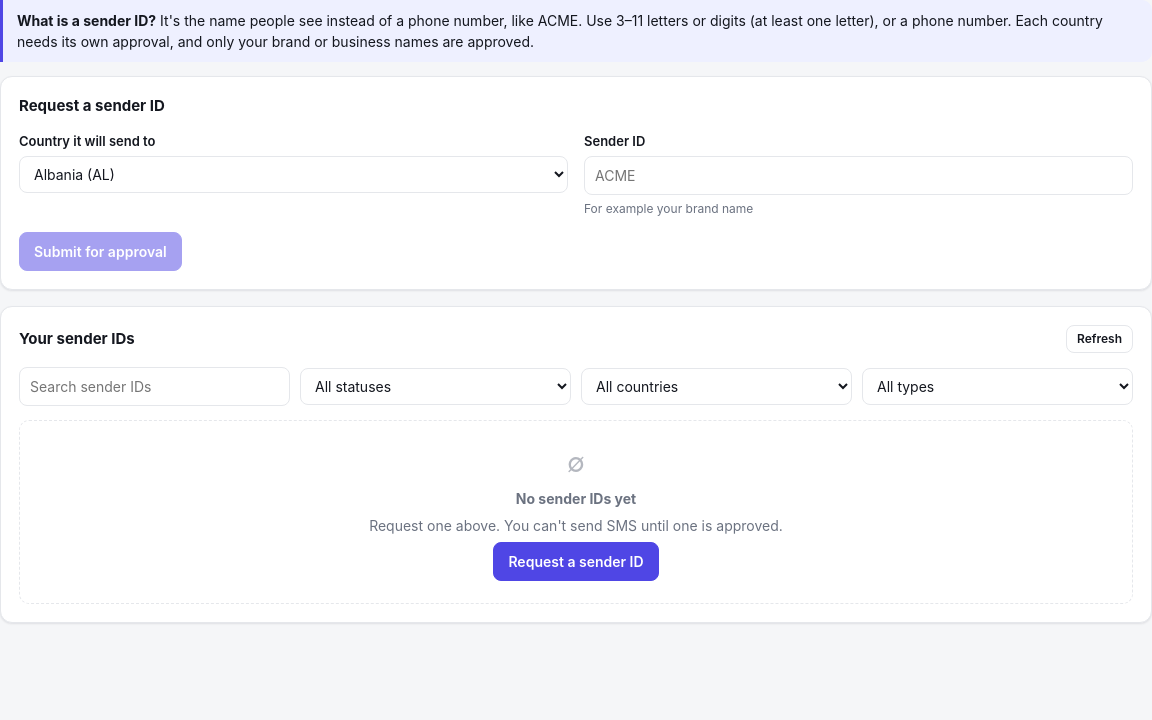
Test case: request form and field errors › 18 server field errors appear next to the field, focus it, and clear on edit
Type "ABCDEF" into the field labelled "Sender ID For example your brand name".
click(858, 176); type("ABCDEF")  # box [584,156,1133,195]
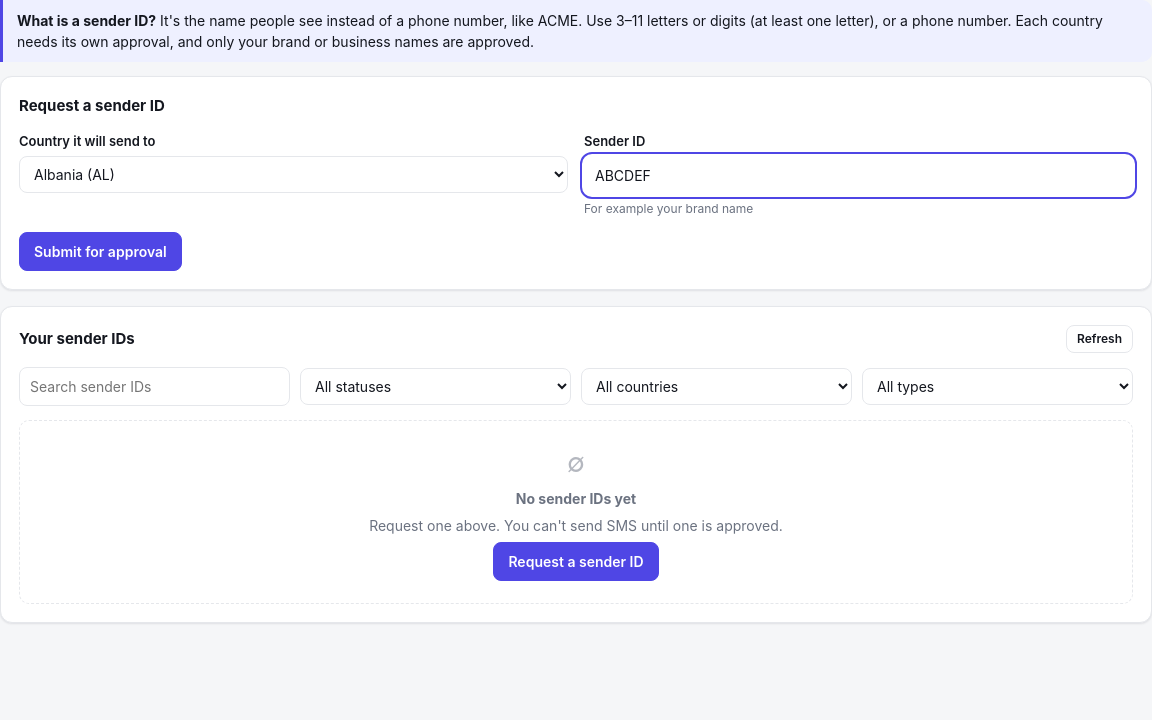
Click the button "Submit for approval".
click(100, 252)  # box [19,232,182,271]
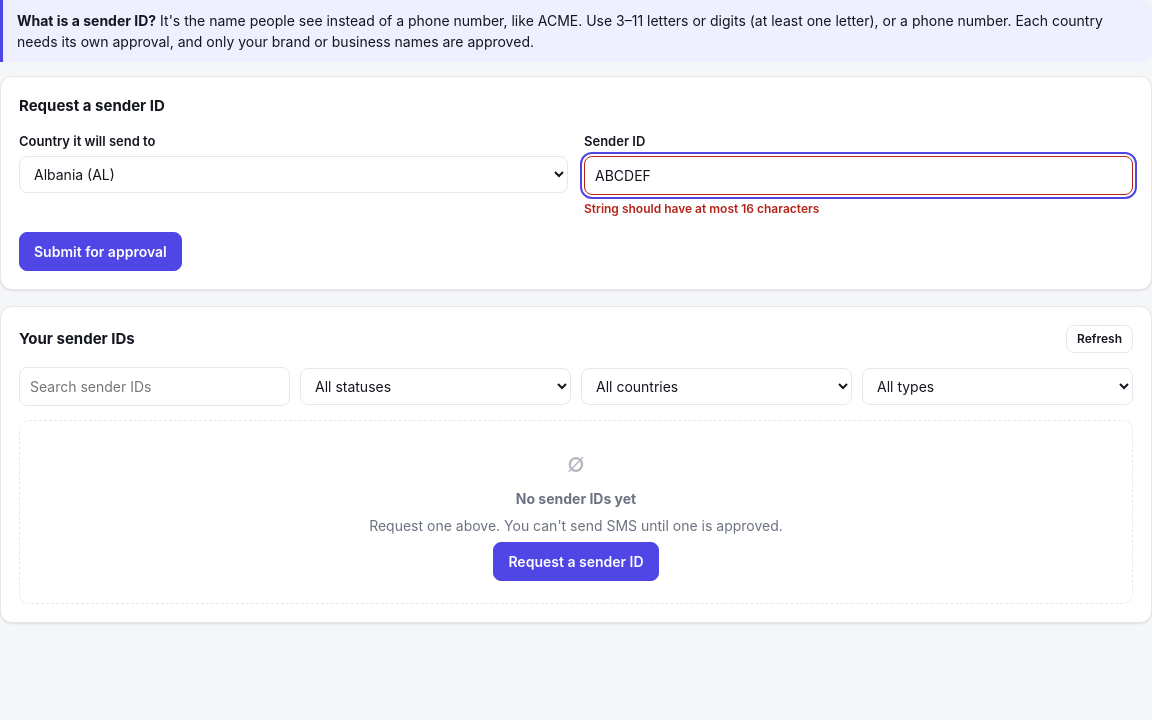
Check: the text "String should have at most 16 characters" is shown, box [584,201,819,216]
Type "X" into the field labelled "Sender ID String should have at most 16 characters".
click(858, 176); type("X")  # box [584,156,1133,195]
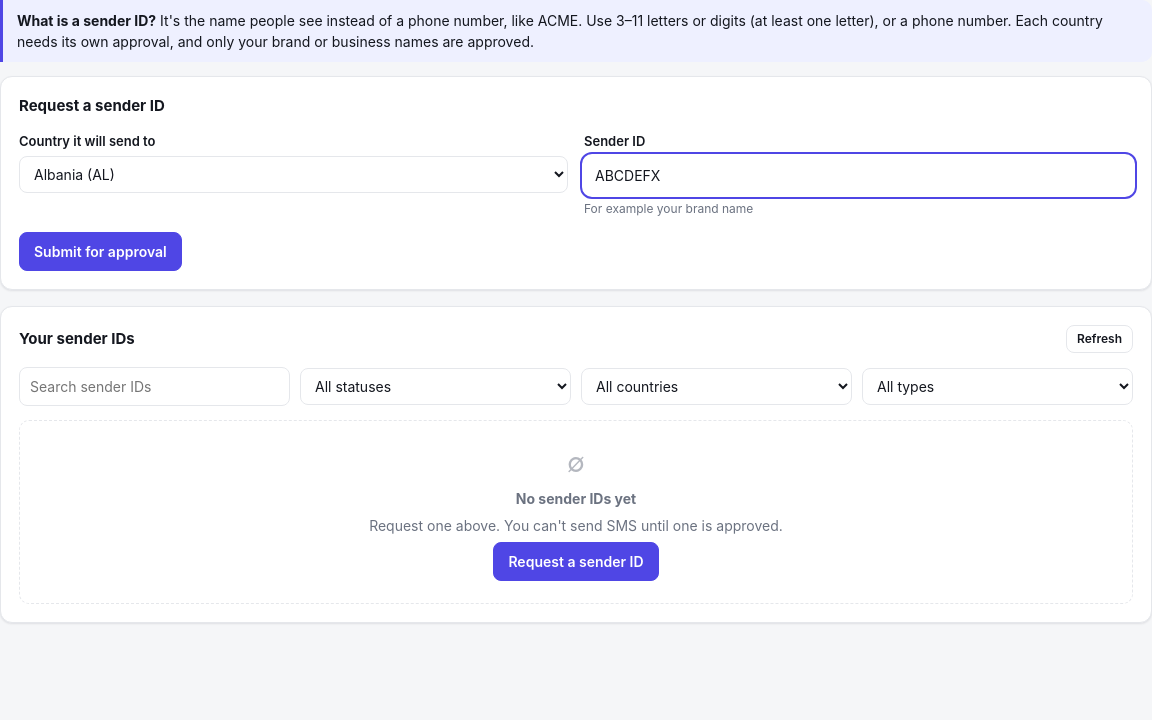
Check: the text "String should have at most 16 characters" is gone
